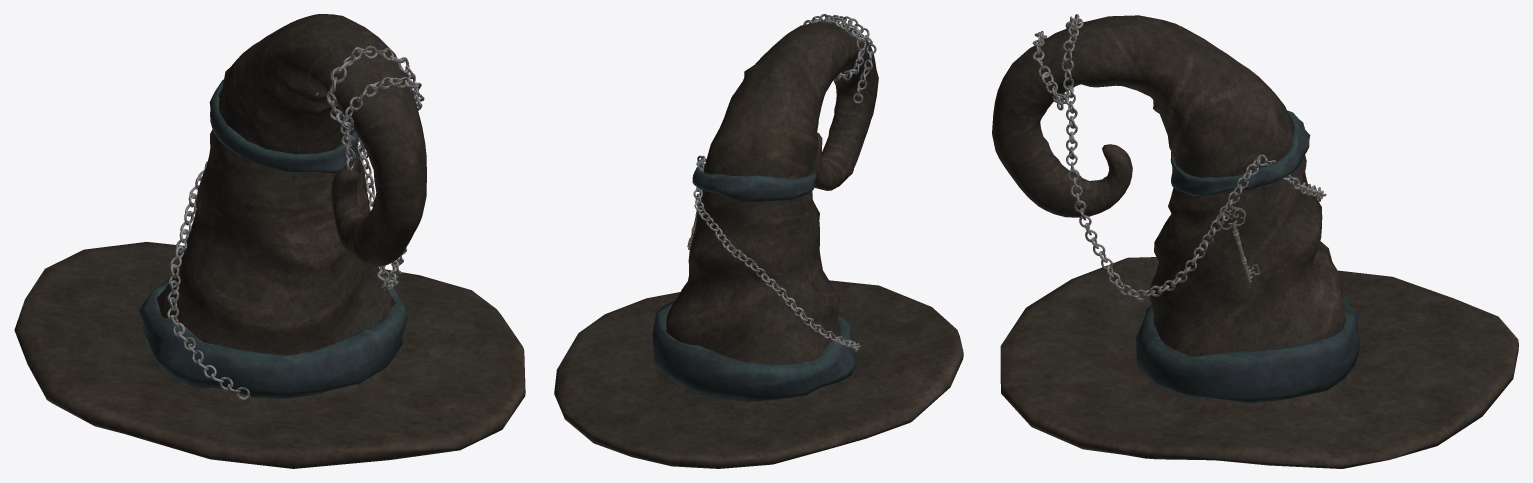
3 views of the same model, side by side, from view 1: azimuth 30°, elevation 25°; view 2: azimuth 150°, elevation 25°; view 3: azimuth 270°, elevation 25° (orthographic). The views are drawn at different scales.
Visible parts, largest first — view 1: Hat_low, Belt_02_low, Chain_01_low, Belt_01_low, Chain_02_low; view 2: Hat_low, Belt_02_low, Belt_01_low, Chain_01_low, Chain_02_low; view 3: Hat_low, Belt_02_low, Chain_01_low, Belt_01_low, Chain_02_low, Key_low.
Boxes of the visible parts, x1,y1,x2,y2 form: Hat_low: (14, 14, 525, 468); Belt_02_low: (139, 269, 407, 398); Chain_01_low: (167, 45, 418, 399); Belt_01_low: (209, 79, 358, 173); Chain_02_low: (327, 47, 424, 170); Hat_low: (554, 22, 963, 468); Belt_02_low: (652, 300, 857, 401); Belt_01_low: (692, 165, 816, 201); Chain_01_low: (693, 14, 860, 352); Chain_02_low: (823, 15, 876, 103); Hat_low: (992, 15, 1518, 468); Belt_02_low: (1136, 294, 1360, 403); Chain_01_low: (1061, 18, 1326, 300); Belt_01_low: (1170, 110, 1310, 196); Chain_02_low: (1032, 14, 1080, 110); Key_low: (1217, 206, 1259, 282).
Bounding box in the file's own units: 1.72 × 1.54 × 2.
1 material, 1 textured.
